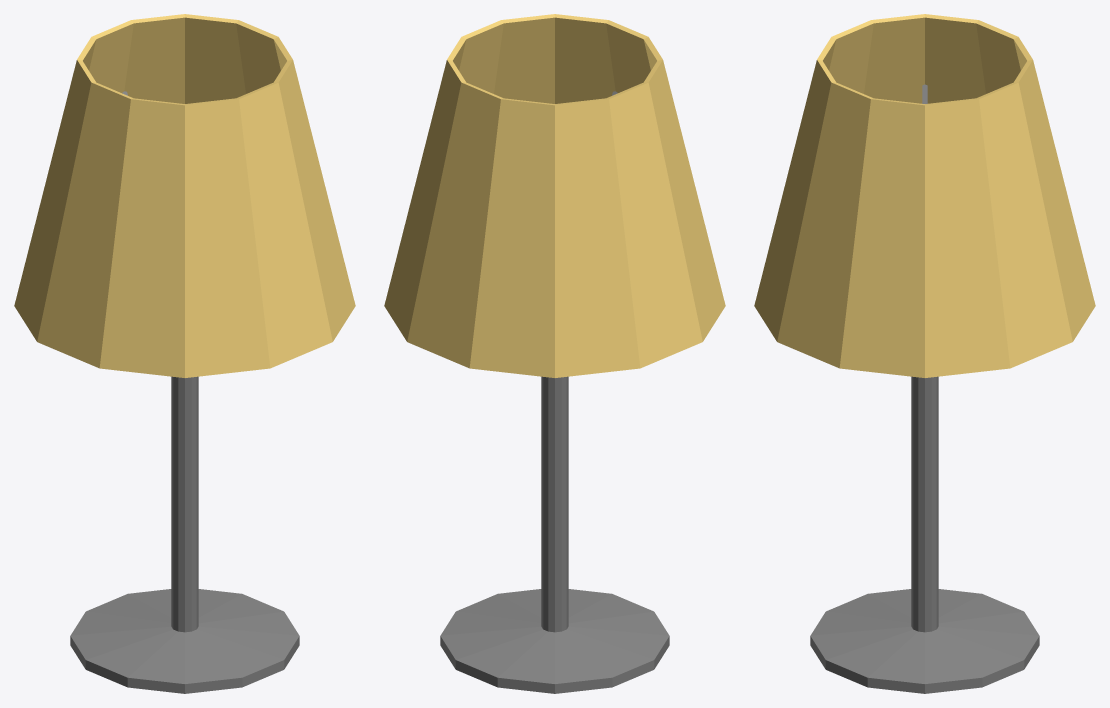
3 views of the same model, side by side, from view 1: azimuth 30°, elevation 25°; view 2: azimuth 150°, elevation 25°; view 3: azimuth 270°, elevation 25° (orthographic).
Parts seen in each view (by area): view 1: Lamp; view 2: Lamp; view 3: Lamp.
Part boxes in pixels (x1=…): Lamp: x1=14, y1=14, x2=355, y2=693; Lamp: x1=384, y1=14, x2=725, y2=693; Lamp: x1=754, y1=14, x2=1095, y2=693.
Size of the model in its own units: 93.47 by 177 by 93.47.
1 material, 1 textured.
